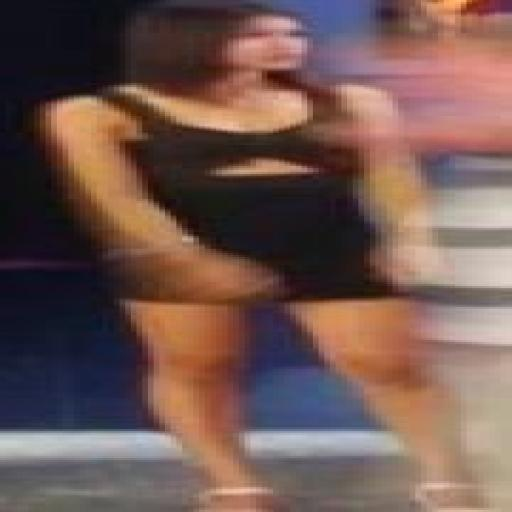person: (46, 0, 489, 511)
